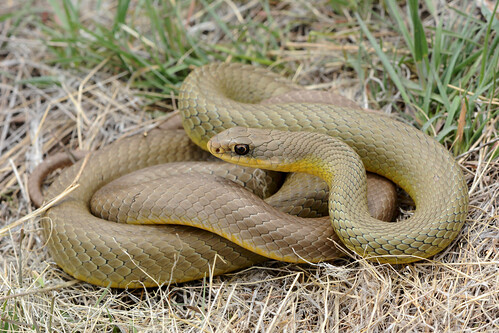animal: (35, 59, 436, 283)
